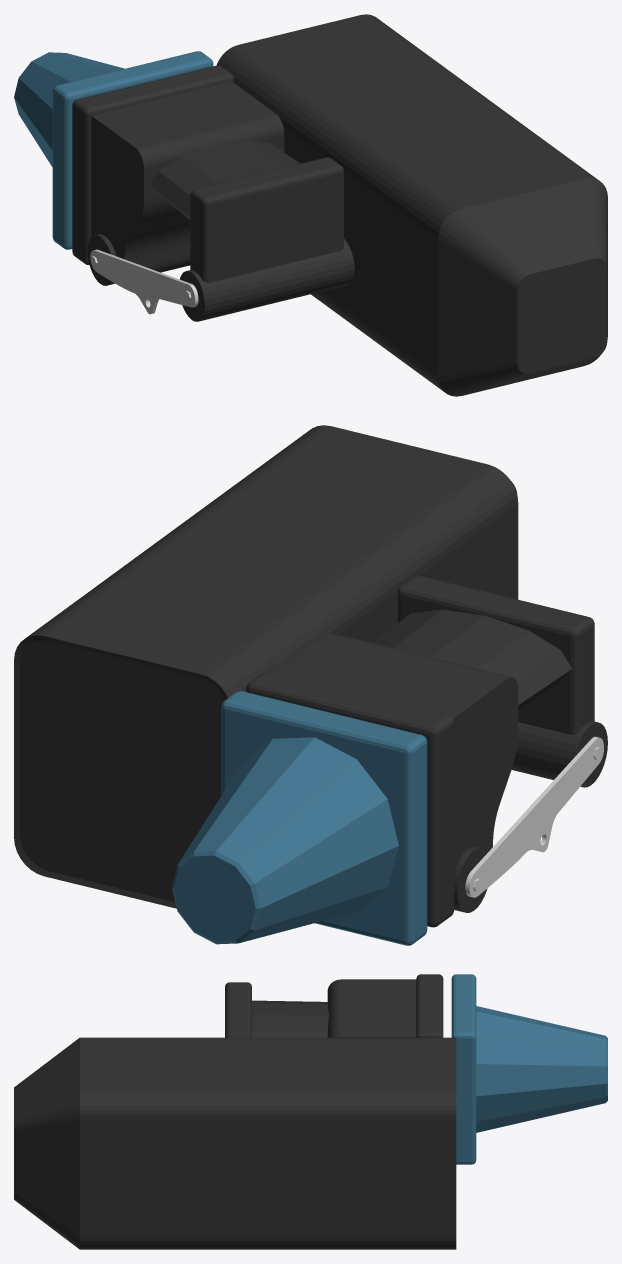
3 renders of one model, top to bottom at view 1: azimuth 30°, elevation 25°; view 2: azimuth 150°, elevation 25°; view 3: azimuth 270°, elevation 25°, orthographic. The views are drawn at different scales.
Visible parts, largest first — view 1: 对象001; view 2: 对象001; view 3: 对象001.
Part boxes in pixels (bbox=[...]): 对象001: bbox=[14, 14, 607, 396]; 对象001: bbox=[14, 425, 607, 945]; 对象001: bbox=[14, 974, 607, 1249].
Bounding box in the file's own units: 10.21 × 5.6 × 19.13.
